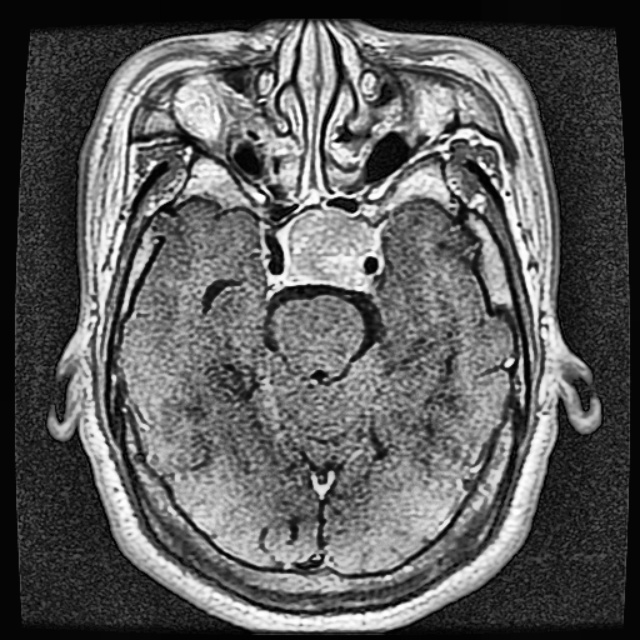Pituitary: (288, 210, 374, 283)
